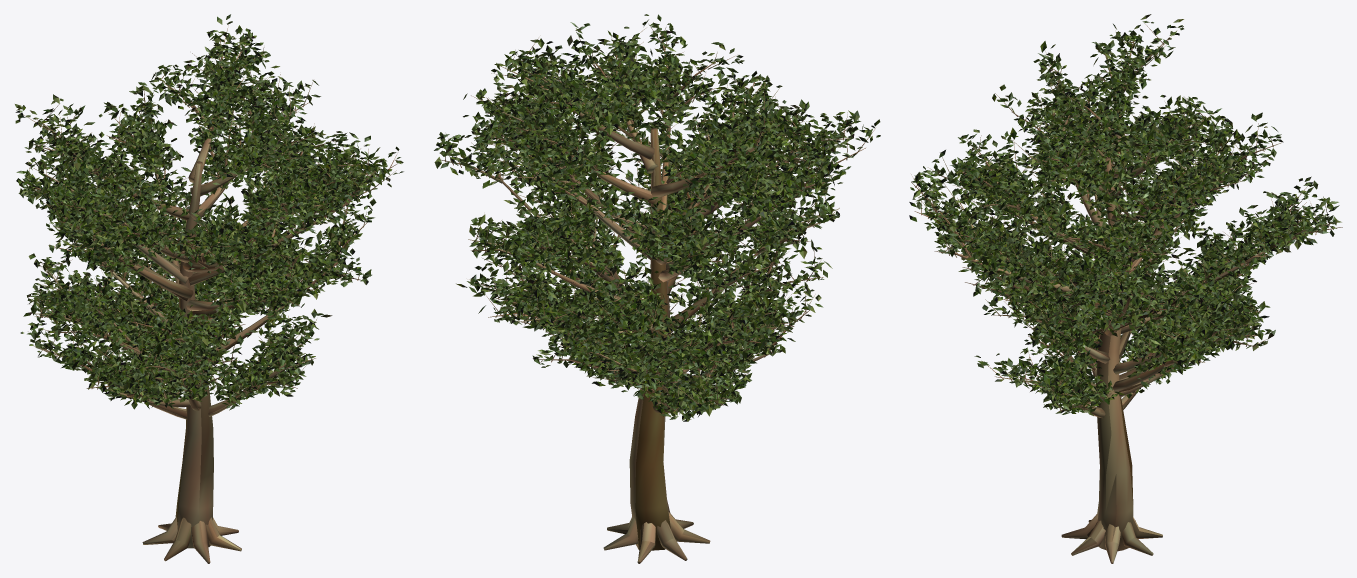
Rendered from broadleaf-photo-v02.glb.
3 views of the same model, side by side, from view 1: azimuth 30°, elevation 25°; view 2: azimuth 150°, elevation 25°; view 3: azimuth 270°, elevation 25° (orthographic). The views are drawn at different scales.
Visible parts, largest first — view 1: Tree | individual folded leaves, Tree | trunk, roots and branching structure; view 2: Tree | individual folded leaves, Tree | trunk, roots and branching structure; view 3: Tree | individual folded leaves, Tree | trunk, roots and branching structure.
Part boxes in pixels (x1,y1,x2,y2): Tree | individual folded leaves: [15, 14, 403, 410]; Tree | trunk, roots and branching structure: [22, 24, 397, 563]; Tree | individual folded leaves: [434, 14, 880, 421]; Tree | trunk, roots and branching structure: [437, 26, 875, 563]; Tree | individual folded leaves: [909, 14, 1341, 415]; Tree | trunk, roots and branching structure: [911, 23, 1342, 563].
Bounding box in the file's own units: 7.11 × 8.67 × 7.16.
6 materials, 6 textured.
